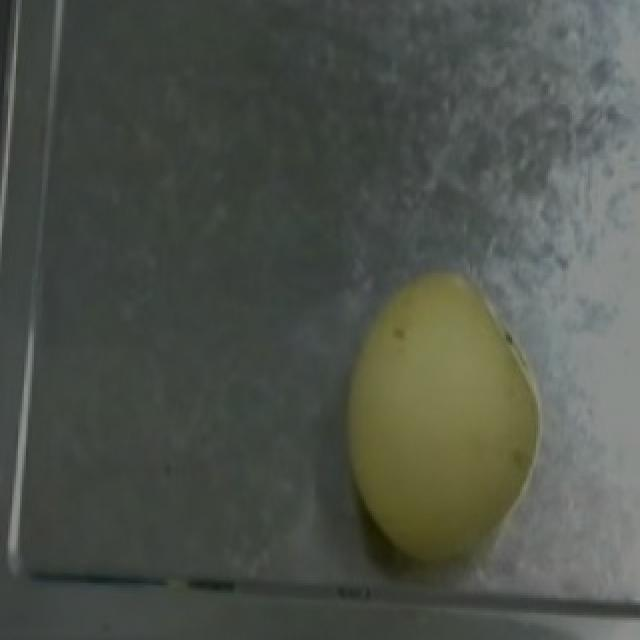Fruit: (326, 251, 556, 563)
